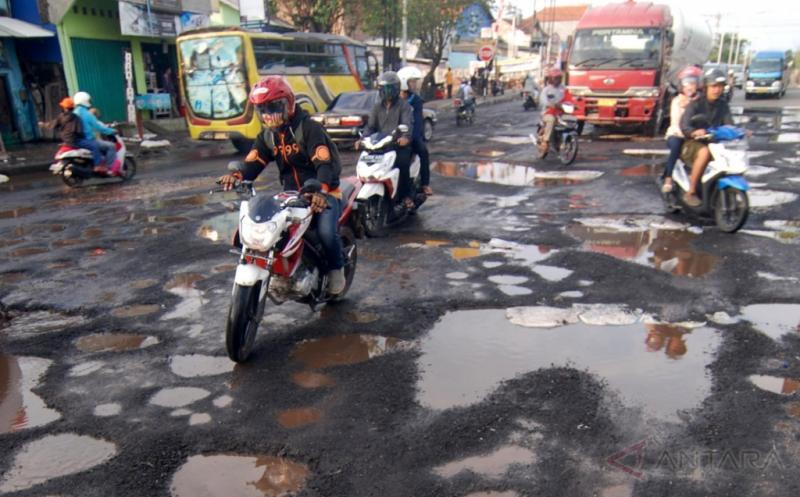Pothole: (239, 290, 800, 441), (375, 219, 773, 272), (246, 302, 399, 431), (409, 426, 658, 497), (0, 195, 143, 272), (140, 440, 323, 497), (0, 416, 127, 496), (132, 350, 260, 421), (420, 145, 585, 199), (140, 175, 237, 256), (0, 336, 83, 429), (129, 256, 236, 327), (50, 348, 124, 422), (752, 119, 800, 213), (0, 262, 72, 319), (606, 142, 703, 184), (72, 330, 166, 356), (72, 290, 162, 317)
